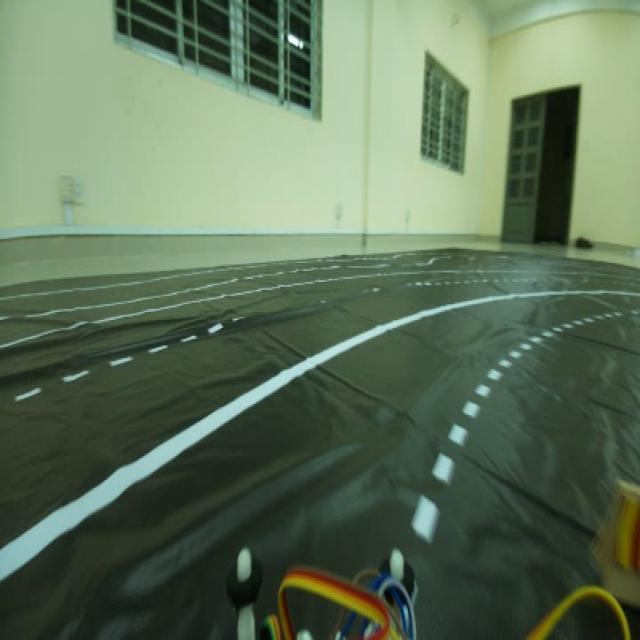roadblock: (590, 484, 640, 592)
